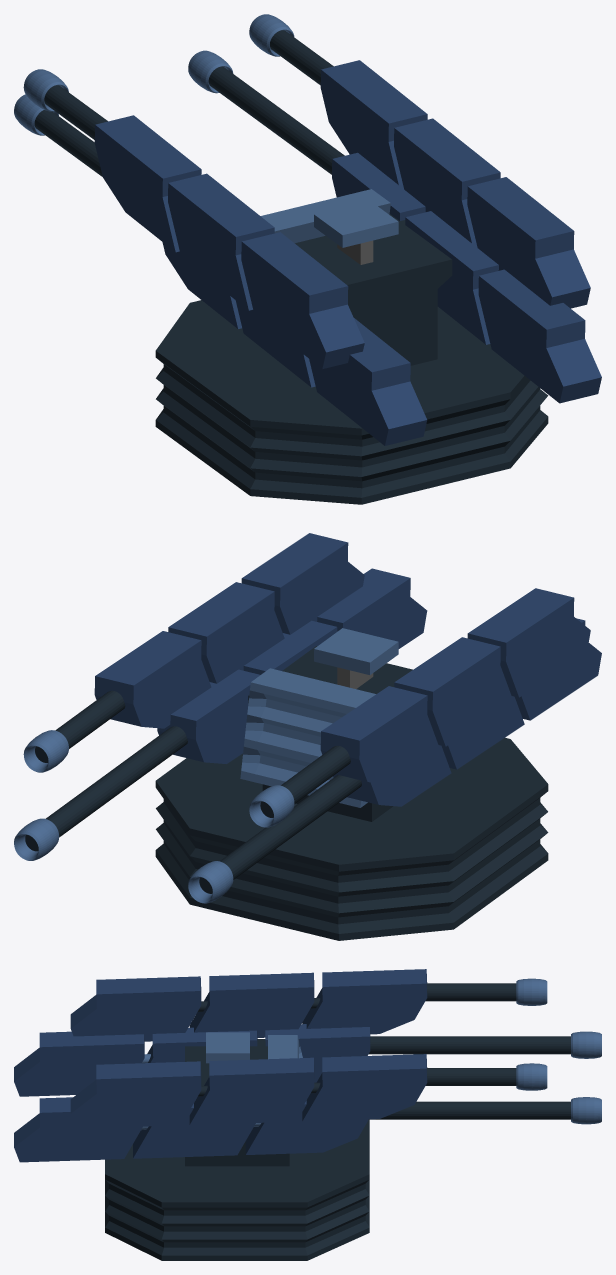
The model's file is Turm 24.fbx.
The picture shows the model from 3 angles, top to bottom: view 1: azimuth 30°, elevation 25°; view 2: azimuth 150°, elevation 25°; view 3: azimuth 270°, elevation 25°; orthographic projection. The views are drawn at different scales.
Visible parts, largest first — view 1: Cube.001, Cube; view 2: Cube.001, Cube; view 3: Cube.001, Cube.
Part boxes in pixels (left/top/right/bottom): Cube.001: left=14, top=14, right=601, bottom=445; Cube: left=155, top=300, right=548, bottom=504; Cube.001: left=14, top=533, right=601, bottom=903; Cube: left=155, top=737, right=548, bottom=940; Cube.001: left=14, top=969, right=601, bottom=1166; Cube: left=105, top=1119, right=369, bottom=1260.
Size of the model in its own units: 257 by 199 by 569.
